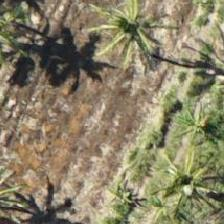coconut_tree: (81, 0, 171, 64)
